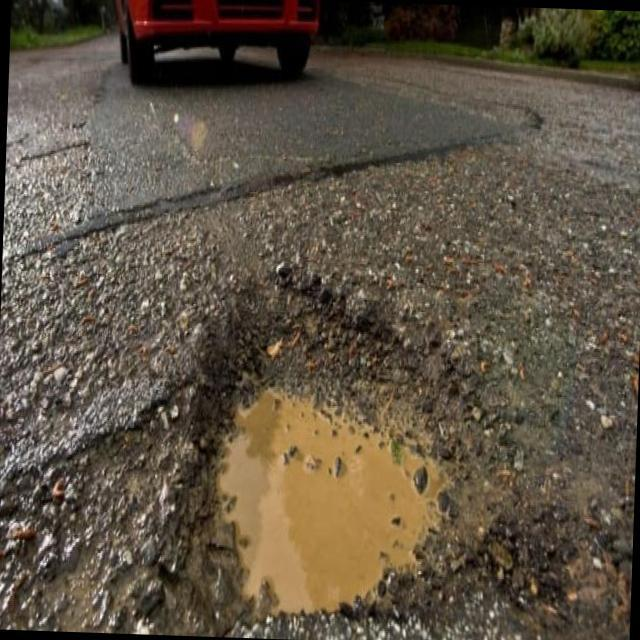Pothole: (77, 278, 522, 638)
